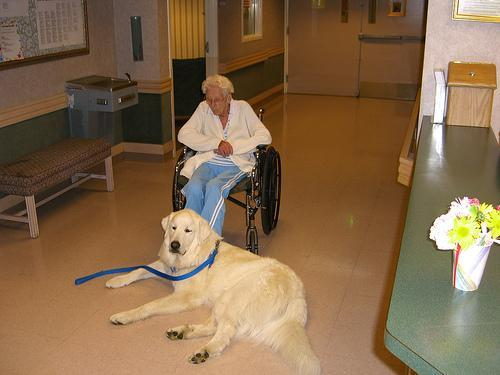Great_Pyrenees: (97, 206, 326, 374)
